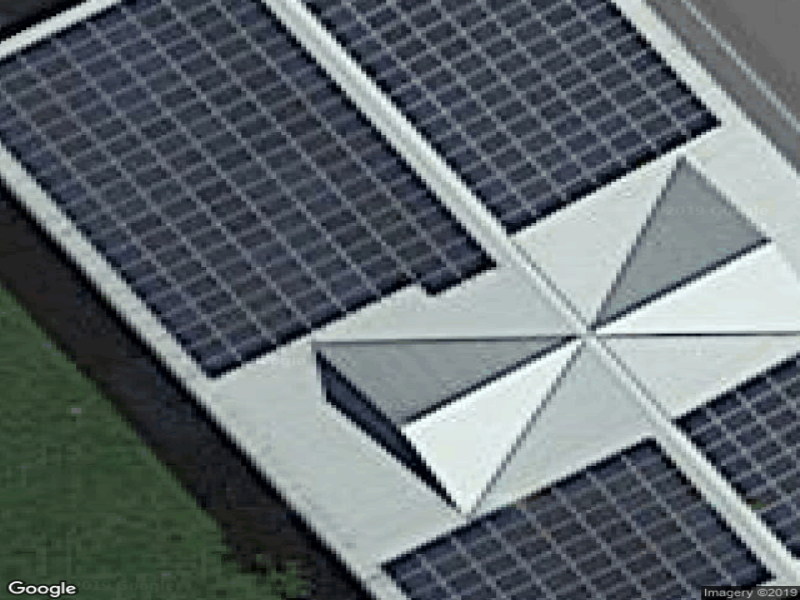pv: (4, 1, 727, 382), (383, 351, 796, 600)
